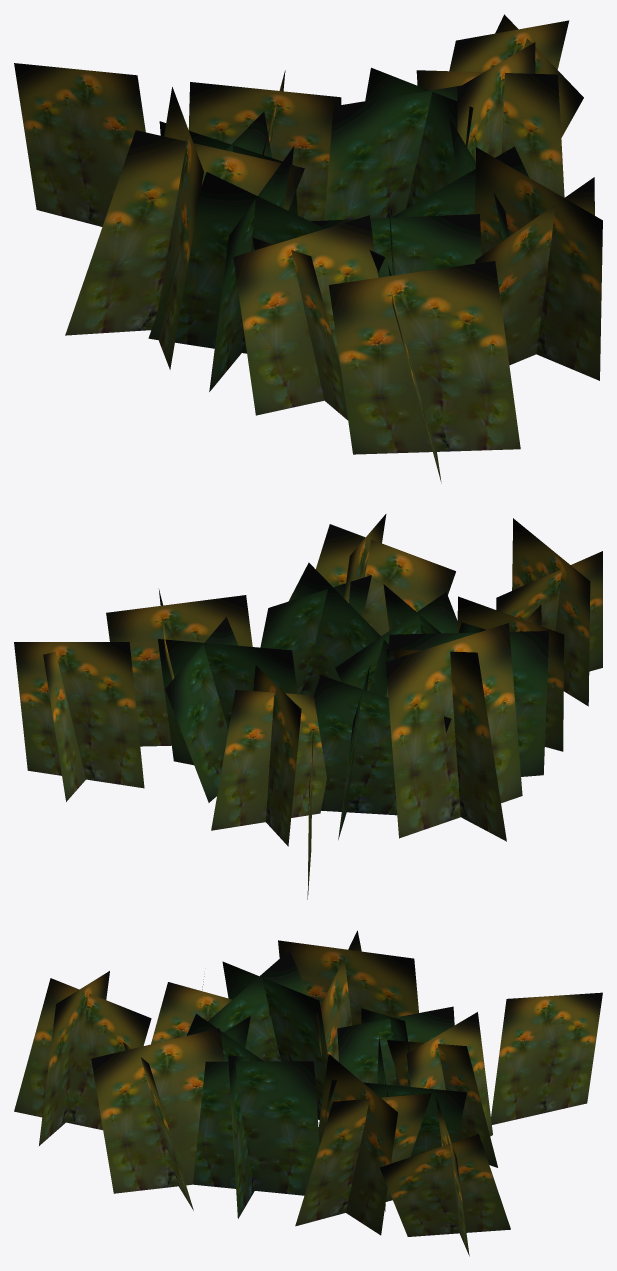
The model's file is FlowerGrass01.fbx.
3 views of the same model, one above another, from view 1: azimuth 30°, elevation 25°; view 2: azimuth 150°, elevation 25°; view 3: azimuth 270°, elevation 25° (orthographic). The views are drawn at different scales.
Visible parts, largest first — view 1: FlowerGrass01; view 2: FlowerGrass01; view 3: FlowerGrass01.
Boxes of the visible parts, bbox=[...] form: FlowerGrass01: bbox=[14, 14, 602, 483]; FlowerGrass01: bbox=[14, 514, 602, 899]; FlowerGrass01: bbox=[14, 930, 602, 1256].
Size of the model in its own units: 182 by 64.52 by 224.
